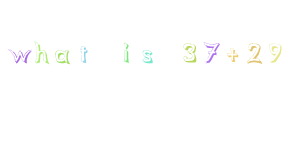+: (224, 43, 242, 67)
2: (243, 39, 266, 69)
3: (178, 39, 201, 68)
7: (201, 37, 224, 70)
9: (266, 38, 291, 72)
a: (53, 45, 74, 68)
h: (33, 36, 51, 68)
i: (115, 35, 137, 68)
s: (137, 48, 160, 70)
t: (73, 39, 96, 68)
w: (4, 44, 33, 70)
